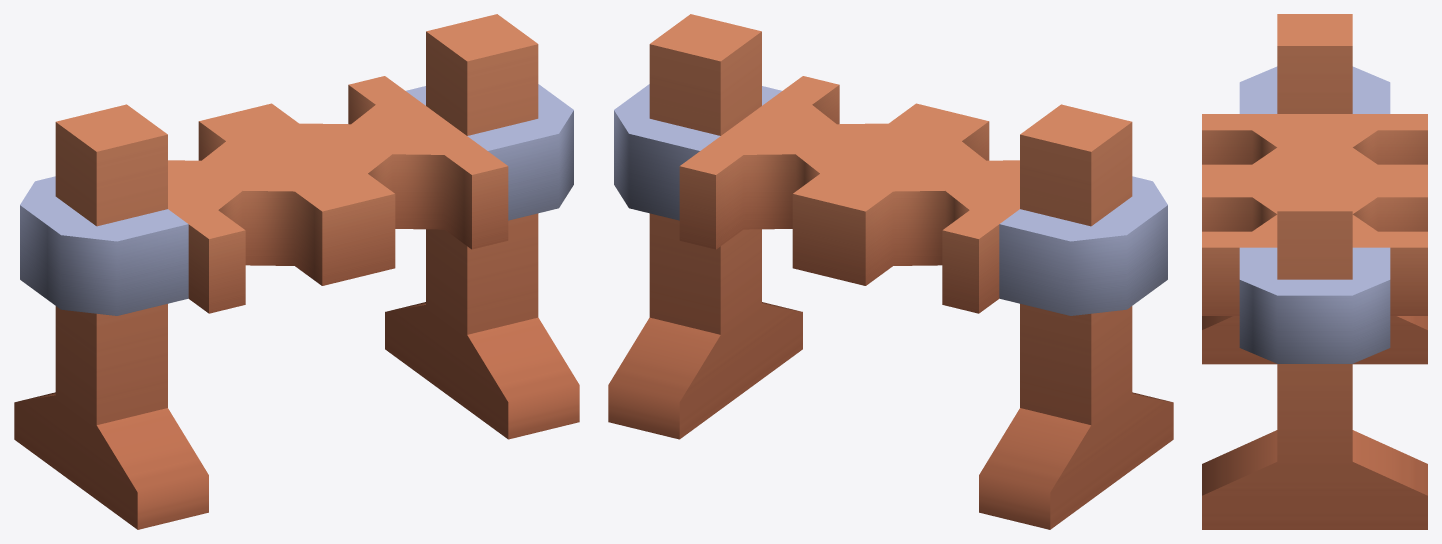
Rendered from weapon-rack.obj.
The picture shows the model from 3 angles, left to right: view 1: azimuth 30°, elevation 25°; view 2: azimuth 150°, elevation 25°; view 3: azimuth 270°, elevation 25°; orthographic projection. The views are drawn at different scales.
Visible parts, largest first — view 1: weapon-rack, Group; view 2: weapon-rack, Group; view 3: weapon-rack, Group.
Part boxes in pixels (<box>): weapon-rack: <box>14,14,579,529</box>; Group: <box>168,76,508,313</box>; weapon-rack: <box>608,14,1173,529</box>; Group: <box>679,76,1019,313</box>; weapon-rack: <box>1202,14,1427,529</box>; Group: <box>1202,114,1427,315</box>.
Bounding box in the file's own units: 0.72 × 0.4667 × 0.3.
Materials: 1 (1 with a texture image).
